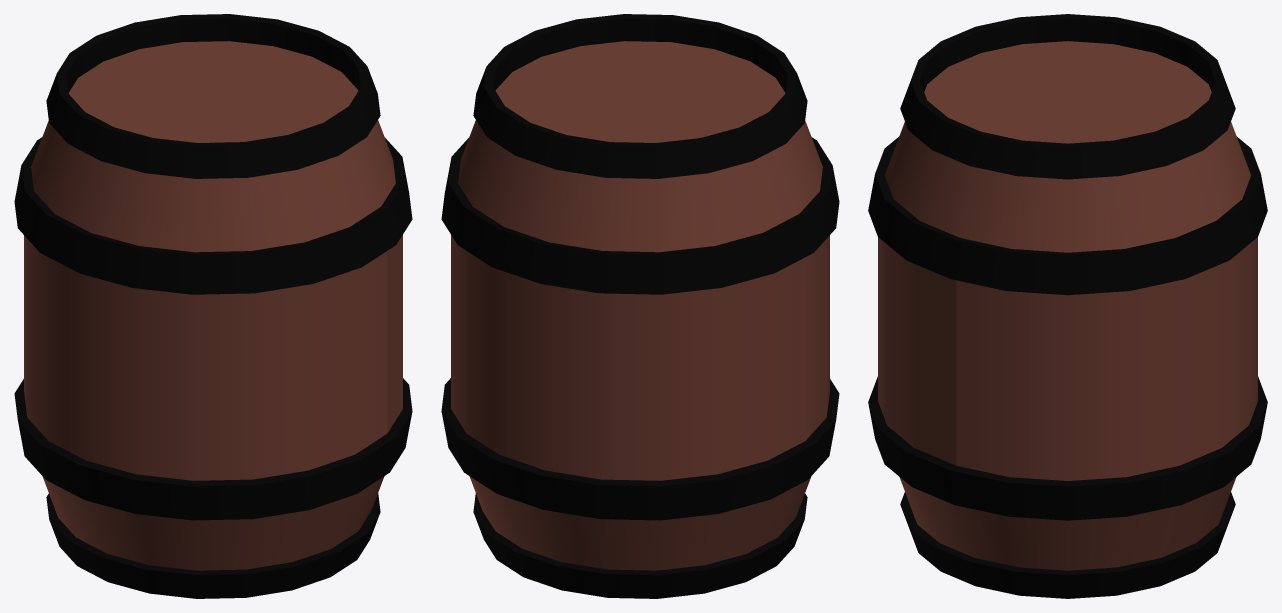
Rendered from Barrel export.fbx.
The picture shows the model from 3 angles, left to right: view 1: azimuth 30°, elevation 25°; view 2: azimuth 150°, elevation 25°; view 3: azimuth 270°, elevation 25°; orthographic projection.
Parts seen in each view (by area): view 1: Barrel; view 2: Barrel; view 3: Barrel.
Boxes of the visible parts, bbox=[...] form: Barrel: bbox=[14, 14, 412, 598]; Barrel: bbox=[441, 14, 839, 598]; Barrel: bbox=[868, 14, 1267, 598].
Bounding box in the file's own units: 0.8036 × 1 × 0.8036.
